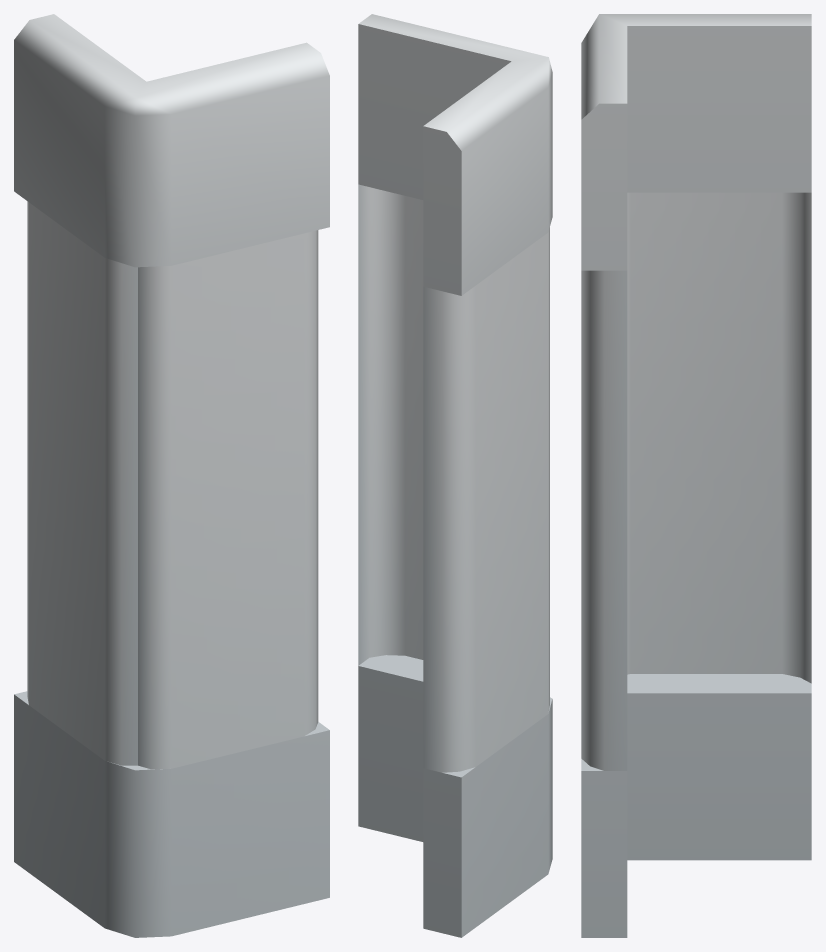
The model's file is Panel_White_01.glb.
The picture shows the model from 3 angles, left to right: view 1: azimuth 30°, elevation 25°; view 2: azimuth 150°, elevation 25°; view 3: azimuth 270°, elevation 25°; orthographic projection. The views are drawn at different scales.
Parts seen in each view (by area): view 1: Panel_White_01; view 2: Panel_White_01; view 3: Panel_White_01.
Boxes of the visible parts, bbox=[...] form: Panel_White_01: bbox=[14, 14, 329, 937]; Panel_White_01: bbox=[358, 14, 552, 937]; Panel_White_01: bbox=[581, 14, 811, 937].
Size of the model in its own units: 0.25 by 1 by 0.25.
1 material, 1 textured.
